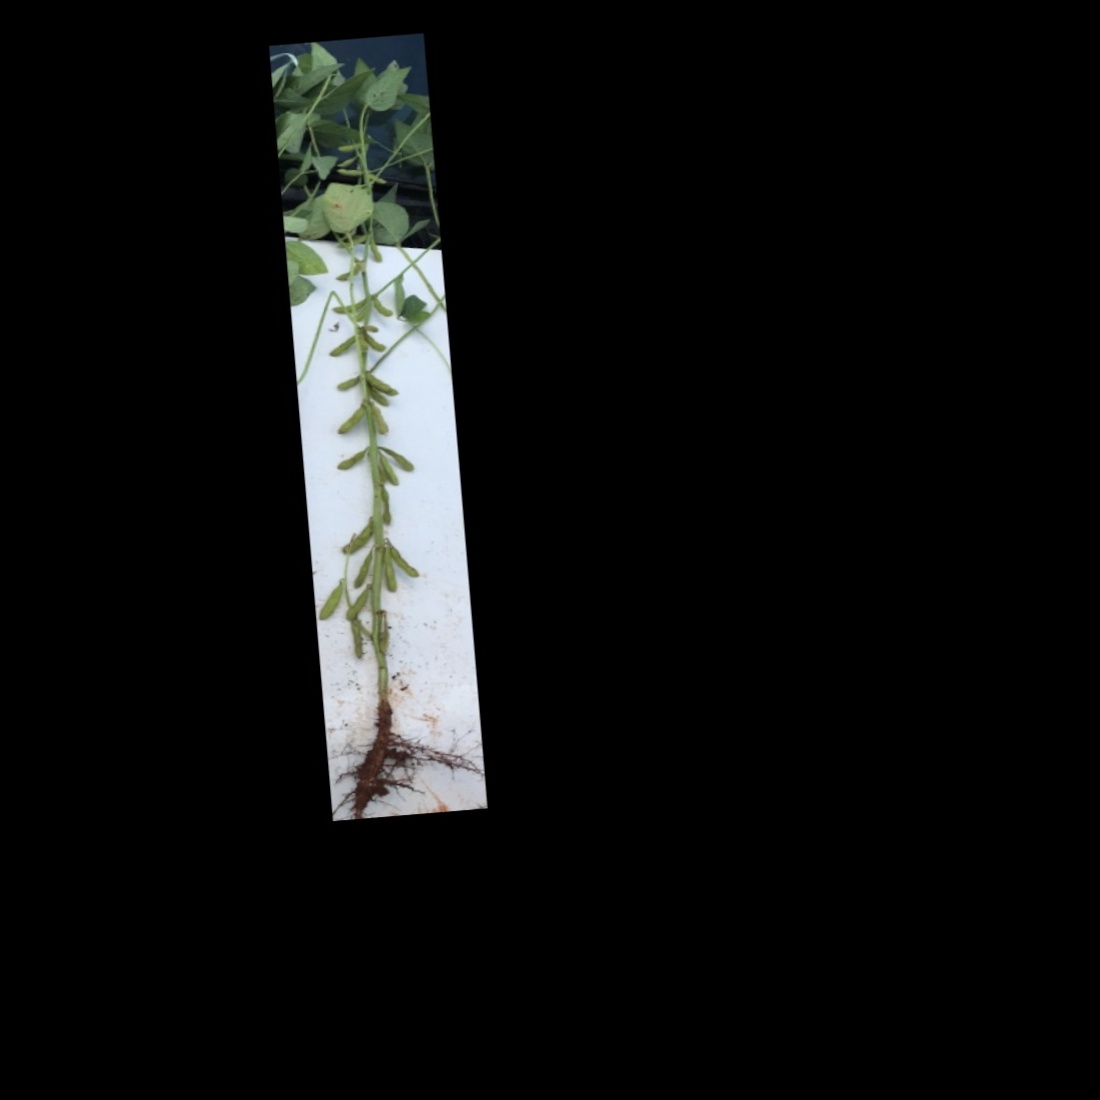pod: (337, 516, 379, 556), (316, 579, 354, 623), (375, 441, 421, 474), (386, 538, 419, 582), (332, 401, 367, 436), (366, 367, 402, 400), (346, 621, 368, 667), (323, 331, 360, 360), (349, 549, 374, 589), (343, 587, 374, 621), (333, 445, 372, 471), (379, 547, 399, 593), (370, 400, 390, 438), (329, 296, 368, 315), (333, 372, 368, 392), (364, 328, 389, 355), (379, 454, 399, 487), (370, 294, 393, 320)
soy: (273, 36, 483, 811)
